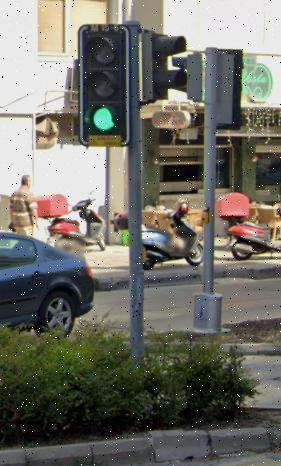greenlight: (80, 23, 128, 144)
